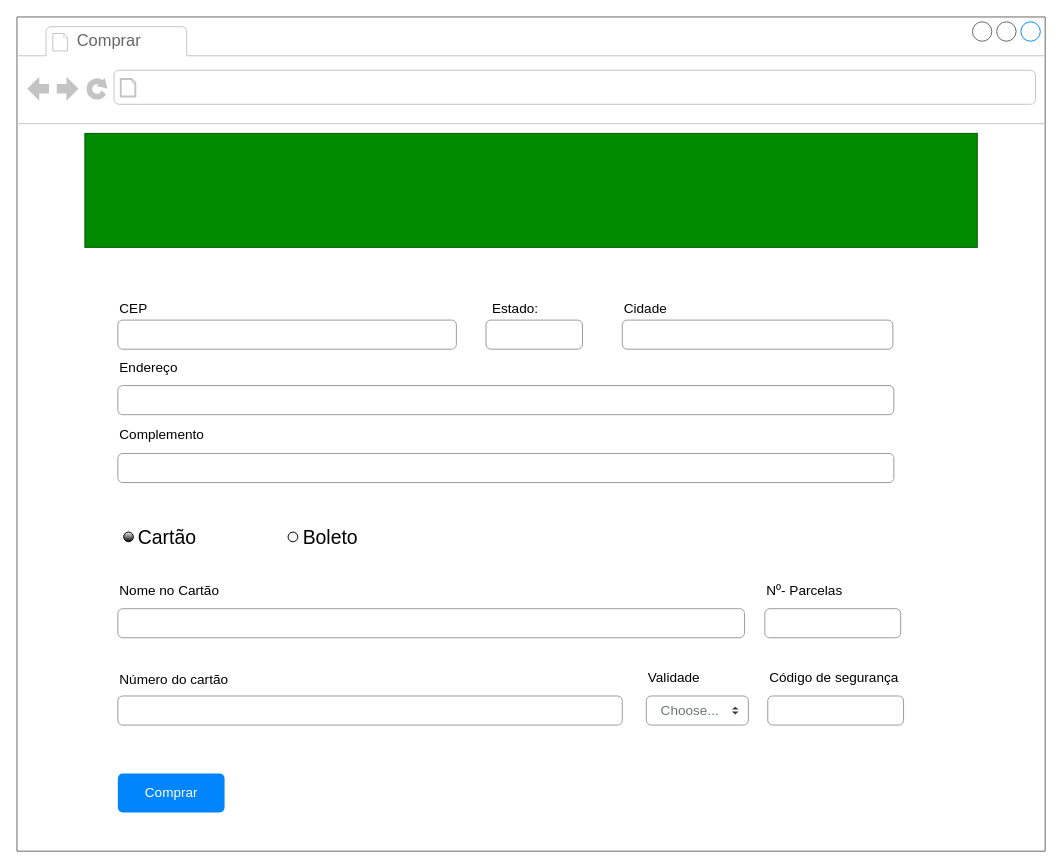
This 1062x868 diagram has some shape labels left out. The centre of each missing label's shape, as x and y in pixels:
https://www.e-comercecamisetas.com: (x=264, y=87)
Total: R$ 99,90: (x=530, y=189)
